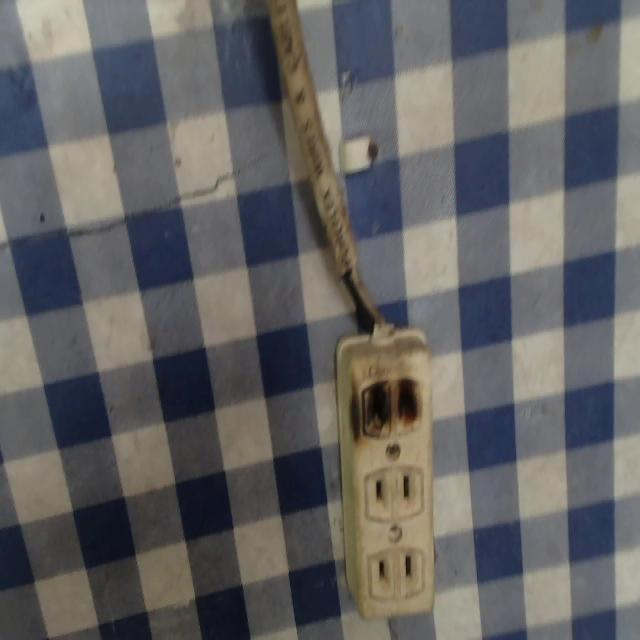-: (352, 362, 431, 442)
